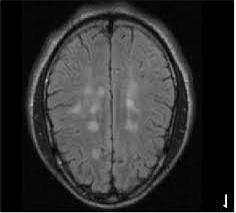Normal_Brain: (26, 1, 220, 213)
